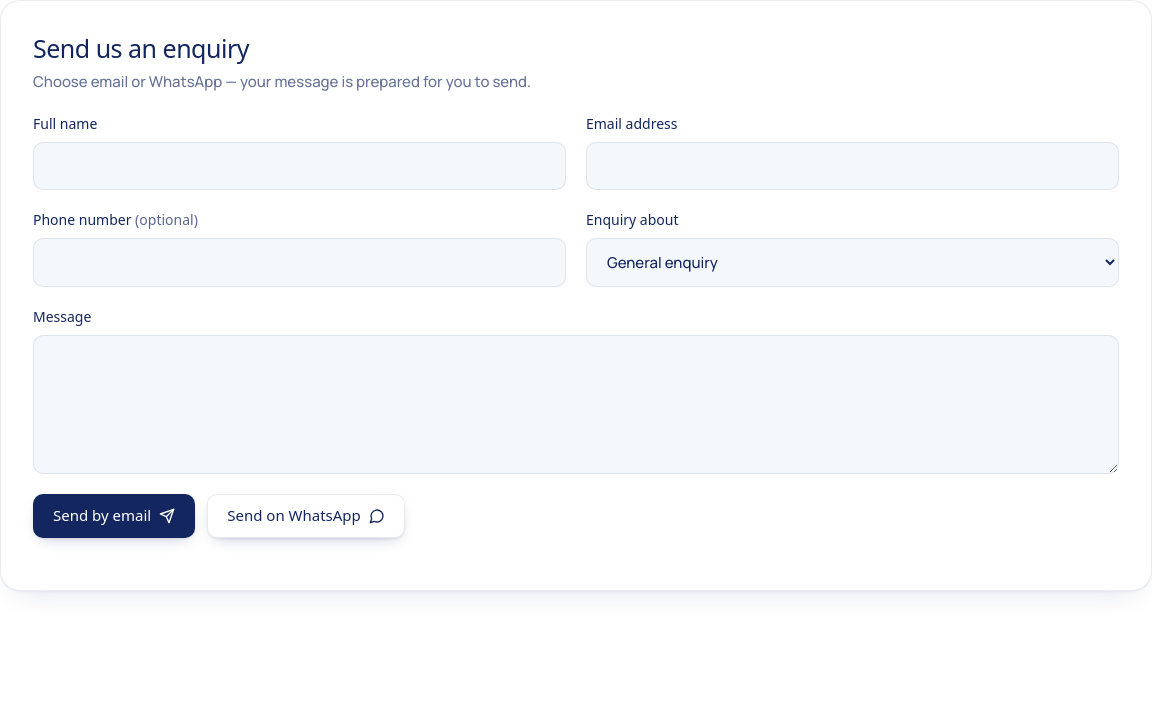
it: EnquiryForm › clears a field error as soon as that field is edited
This screenshot has width=1152, height=720.
Click the button "Send by email" at (114, 516), box [33,494,195,538]
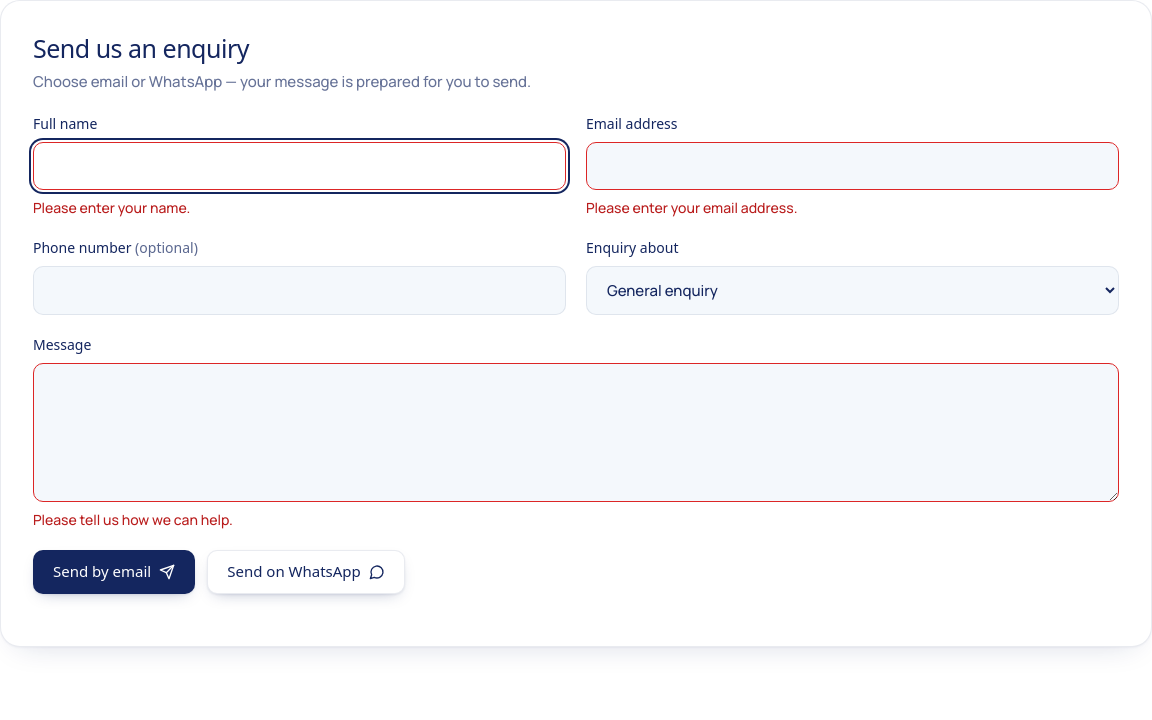
Type "A" into the field labelled "Full name" at (300, 166), box [33,142,566,190]
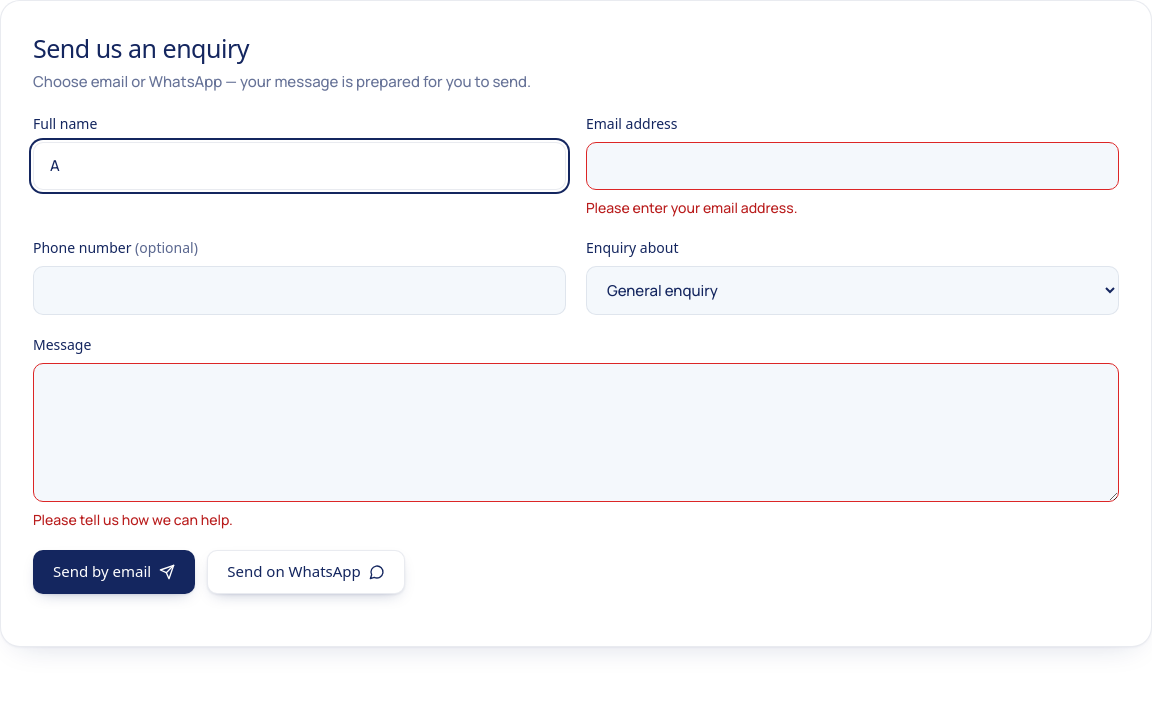
Expected: the text "Please enter your email address." is shown, [586,198,798,217]
Expected: the text "Please enter your name." is gone
